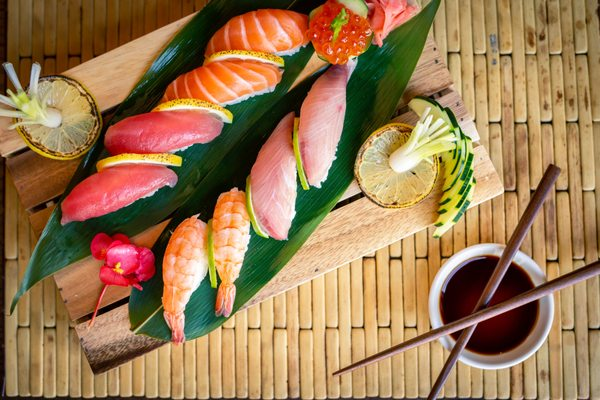salad: (426, 249, 552, 397), (477, 162, 562, 323)
taco: (355, 114, 441, 209)
